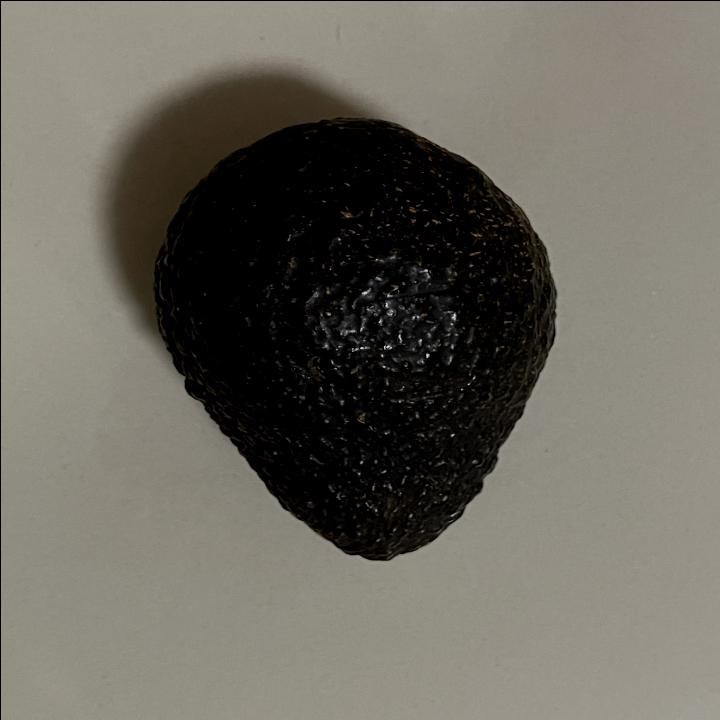Level3: (143, 108, 569, 574)
